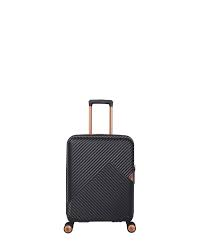suitcase: (63, 98, 137, 234)
